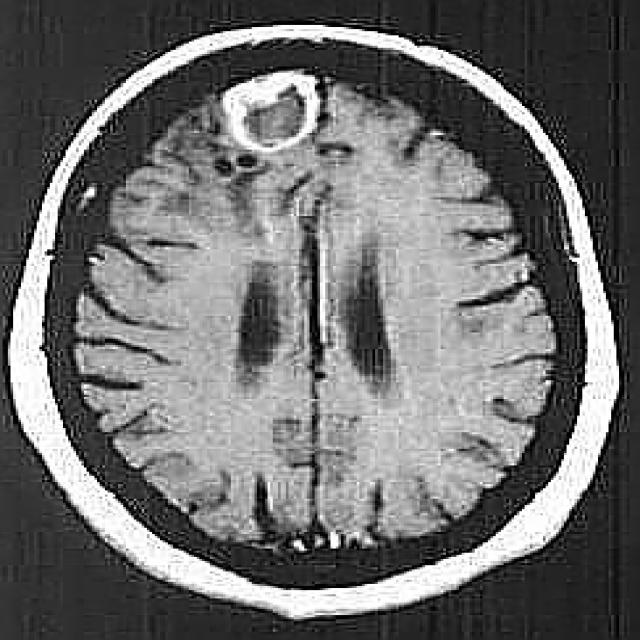Tumor-Cell: (220, 81, 364, 146)
